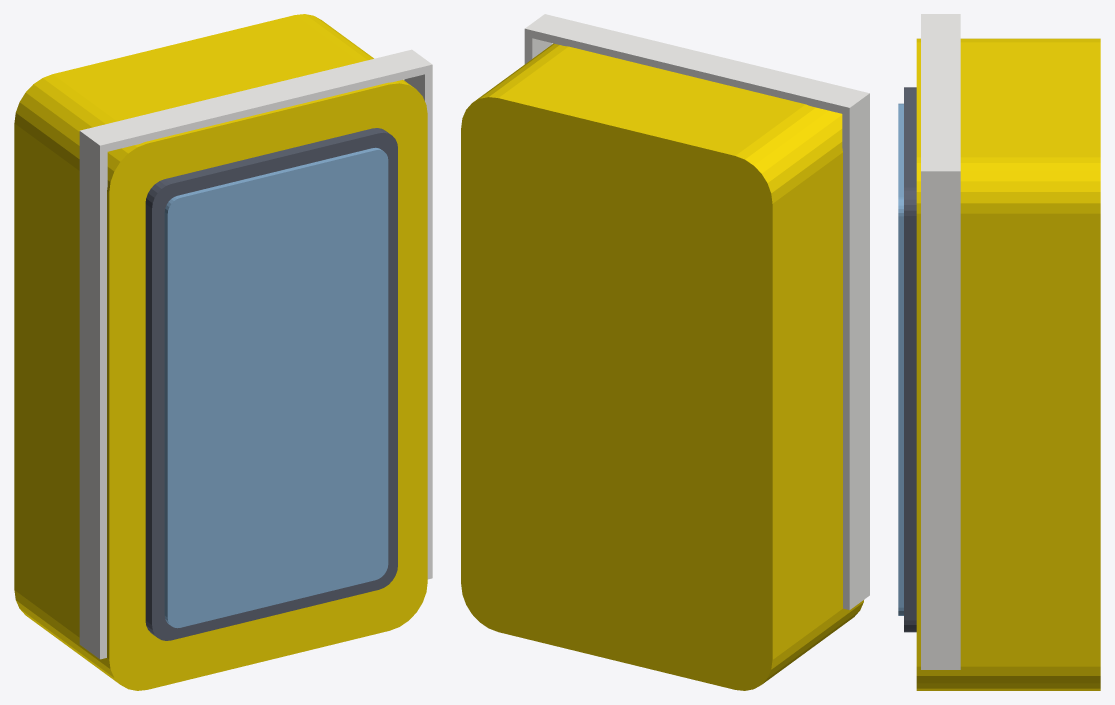
File: device.canary-nightlight.glb
The picture shows the model from 3 angles, left to right: view 1: azimuth 30°, elevation 25°; view 2: azimuth 150°, elevation 25°; view 3: azimuth 270°, elevation 25°; orthographic projection. The views are drawn at different scales.
Bounding box in the file's own units: 0.0262 × 0.0417 × 0.0143.
